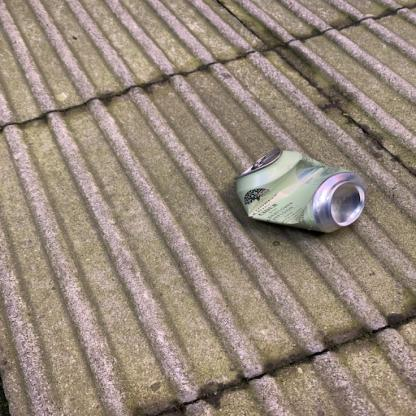trash: (225, 148, 379, 237)
